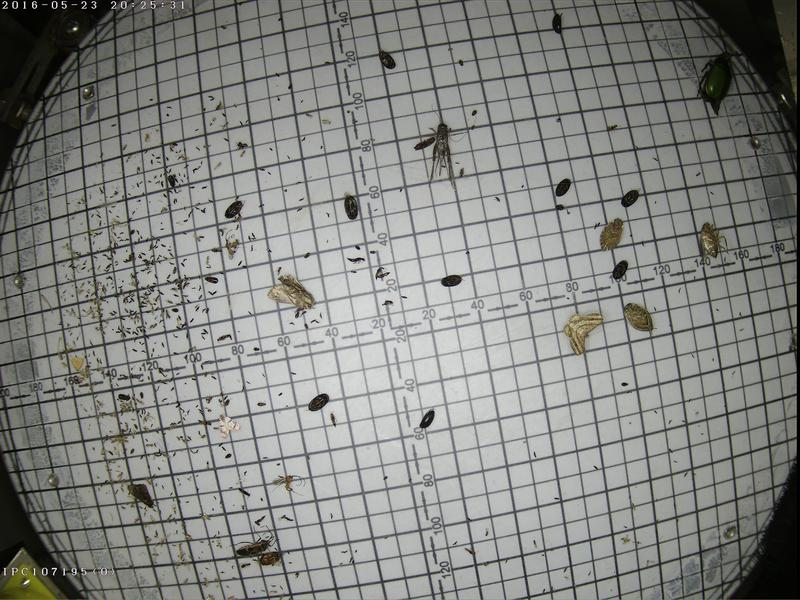Spodoptera litura: (264, 271, 316, 312)
